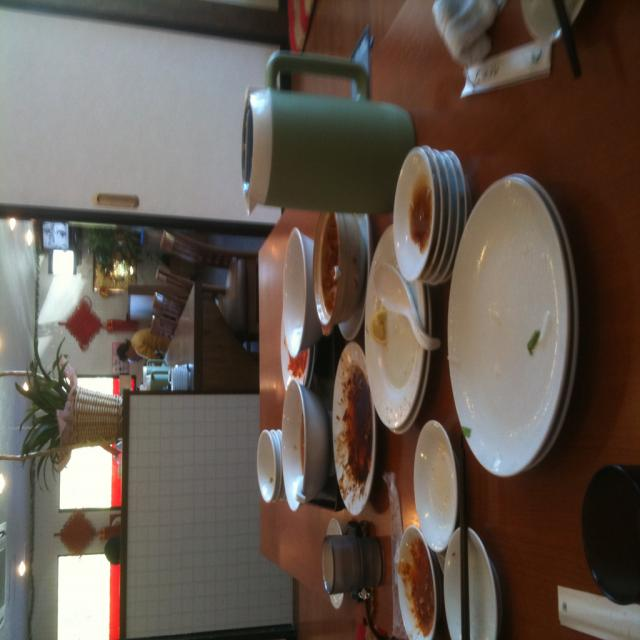non-organic waste: (441, 172, 590, 490)
